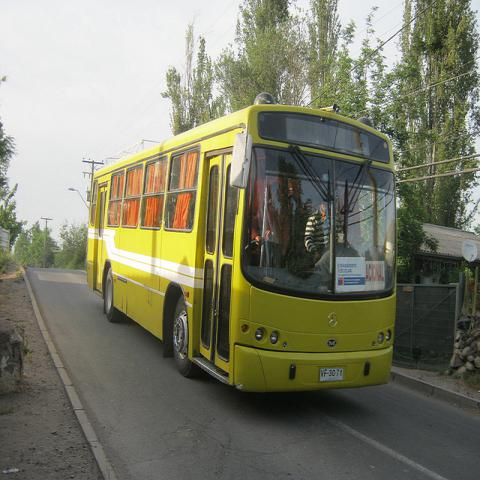bus: (83, 104, 399, 391)
